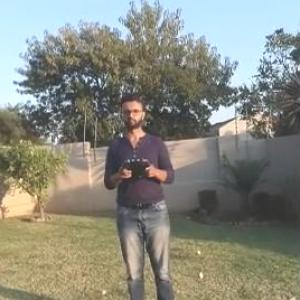follow: (100, 87, 182, 299)
